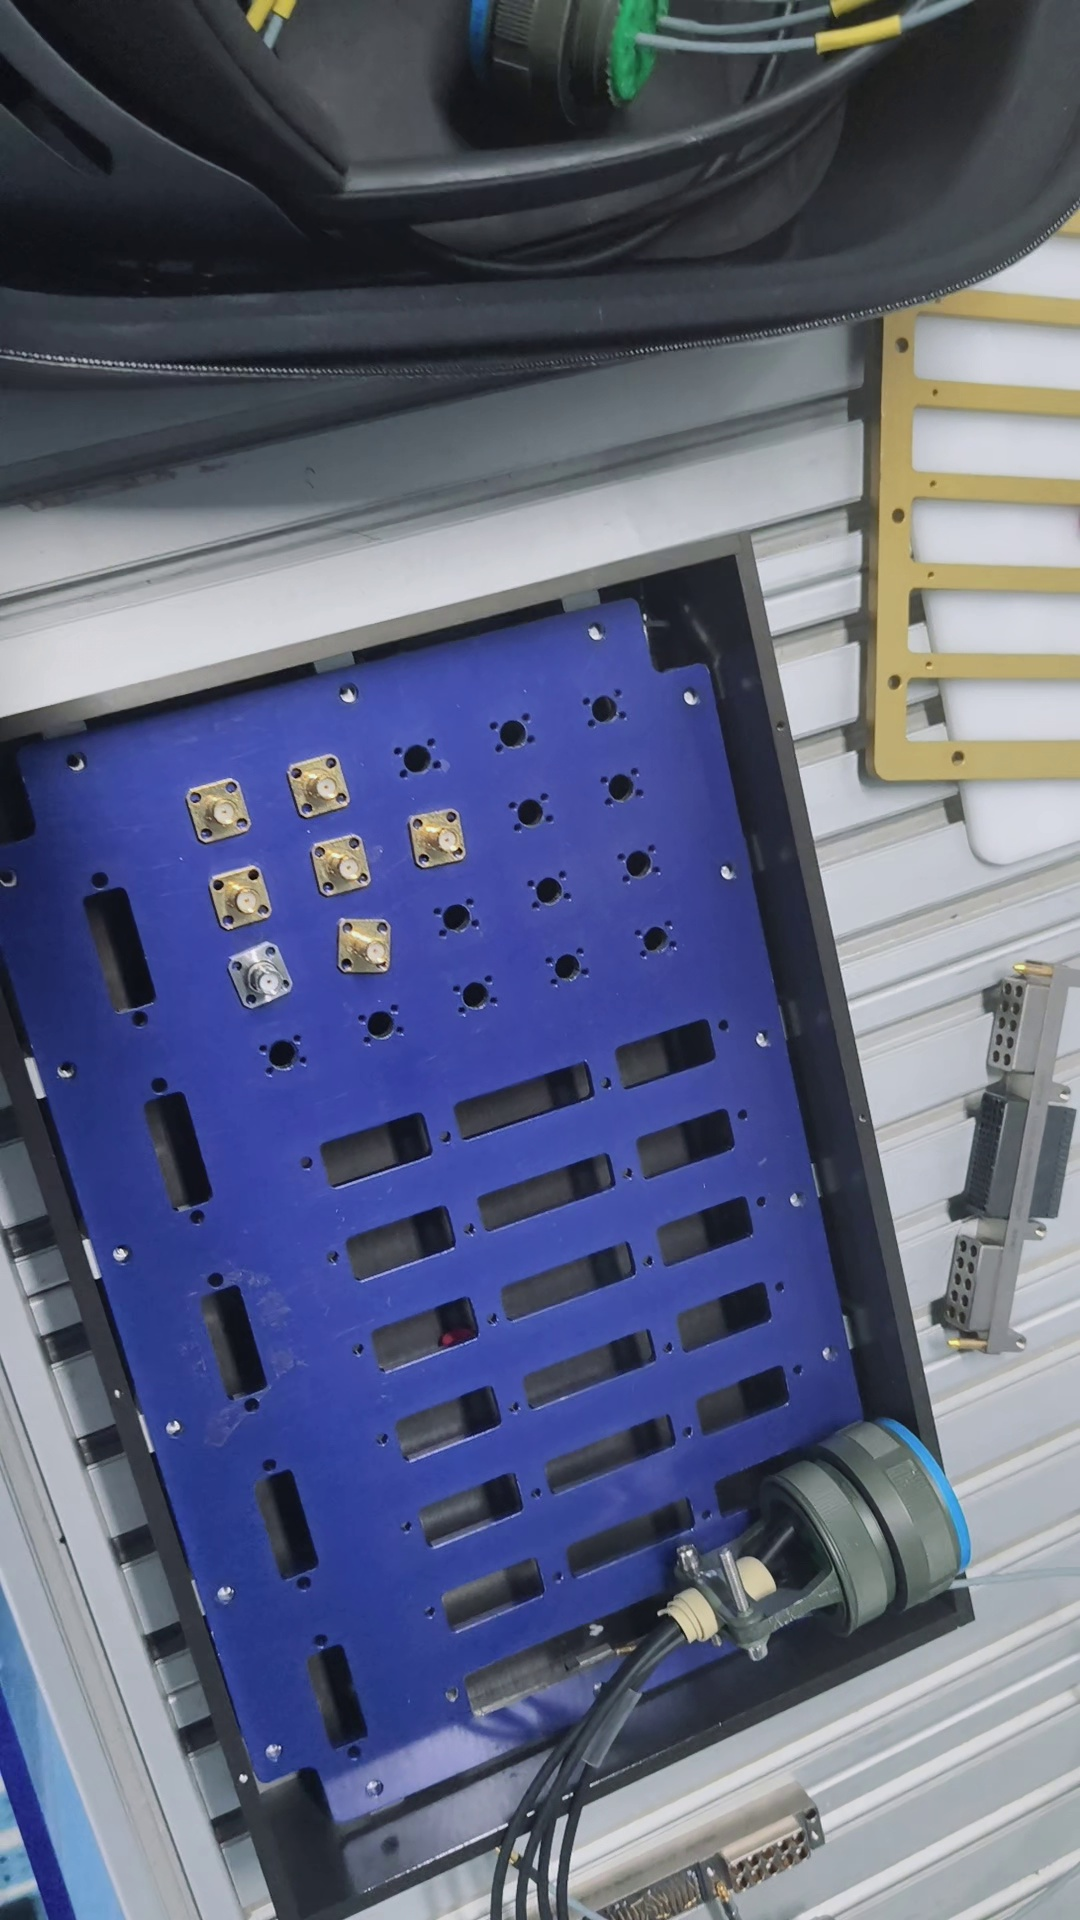SMA: (223, 942, 297, 1007), (284, 758, 365, 818), (208, 860, 280, 926), (405, 808, 479, 870), (305, 836, 381, 894), (189, 775, 253, 843), (338, 916, 401, 976)
